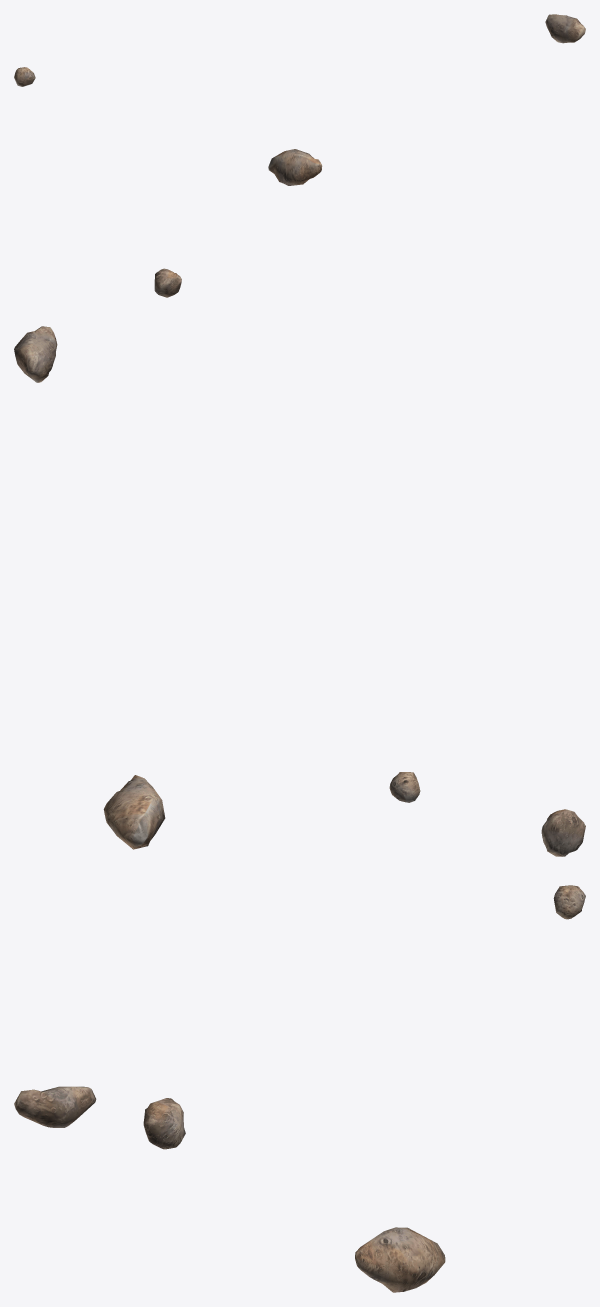
Rendered from Asteroid3_Dust01.glb.
3 views of the same model, one above another, from view 1: azimuth 30°, elevation 25°; view 2: azimuth 150°, elevation 25°; view 3: azimuth 270°, elevation 25° (orthographic). The views are drawn at different scales.
Visible parts, largest first — view 1: Asteroid_04_LOD0, Asteroid_03_LOD0, Asteroid_02_LOD0; view 2: Asteroid_04_LOD0, Asteroid_03_LOD0, Asteroid_02_LOD0, Asteroid_01_LOD0; view 3: Asteroid_04_LOD0, Asteroid_03_LOD0, Asteroid_02_LOD0, Asteroid_01_LOD0.
Part boxes in pixels (x1,y1,x2,y2): Asteroid_04_LOD0: (268, 149, 322, 185); Asteroid_03_LOD0: (545, 14, 585, 43); Asteroid_02_LOD0: (154, 268, 181, 297); Asteroid_04_LOD0: (103, 775, 165, 849); Asteroid_03_LOD0: (14, 326, 57, 382); Asteroid_02_LOD0: (541, 809, 585, 856); Asteroid_01_LOD0: (389, 772, 420, 802); Asteroid_04_LOD0: (355, 1227, 445, 1292); Asteroid_03_LOD0: (14, 1086, 96, 1127); Asteroid_02_LOD0: (143, 1098, 185, 1149); Asteroid_01_LOD0: (553, 885, 585, 919).
Size of what is drawn, in the model's own units: 46.6 by 23.42 by 33.94.
1 material, 1 textured.
